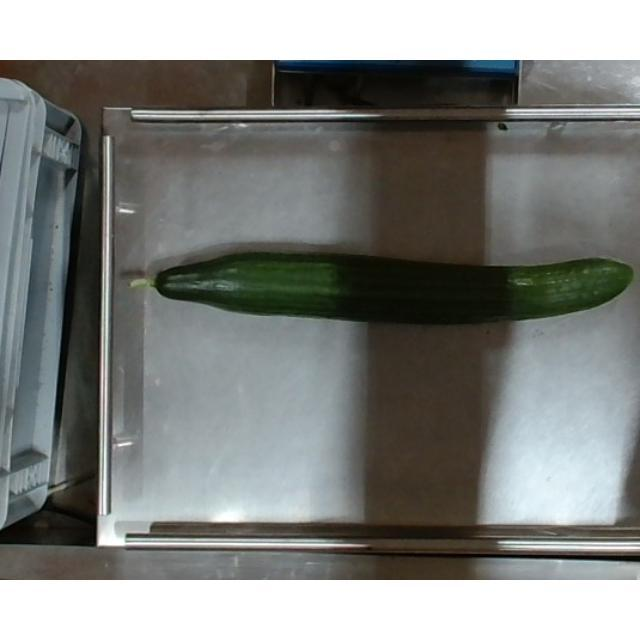cucumber: (126, 244, 634, 334)
